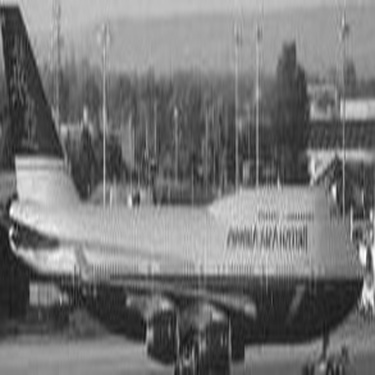airplane: (3, 5, 357, 355)
